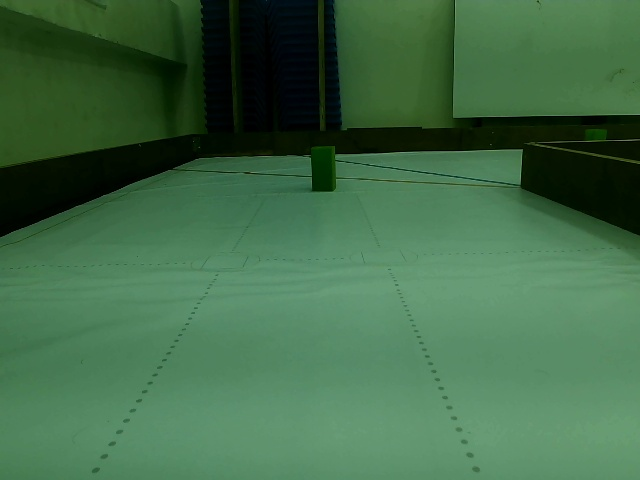green: (312, 145, 334, 189)
